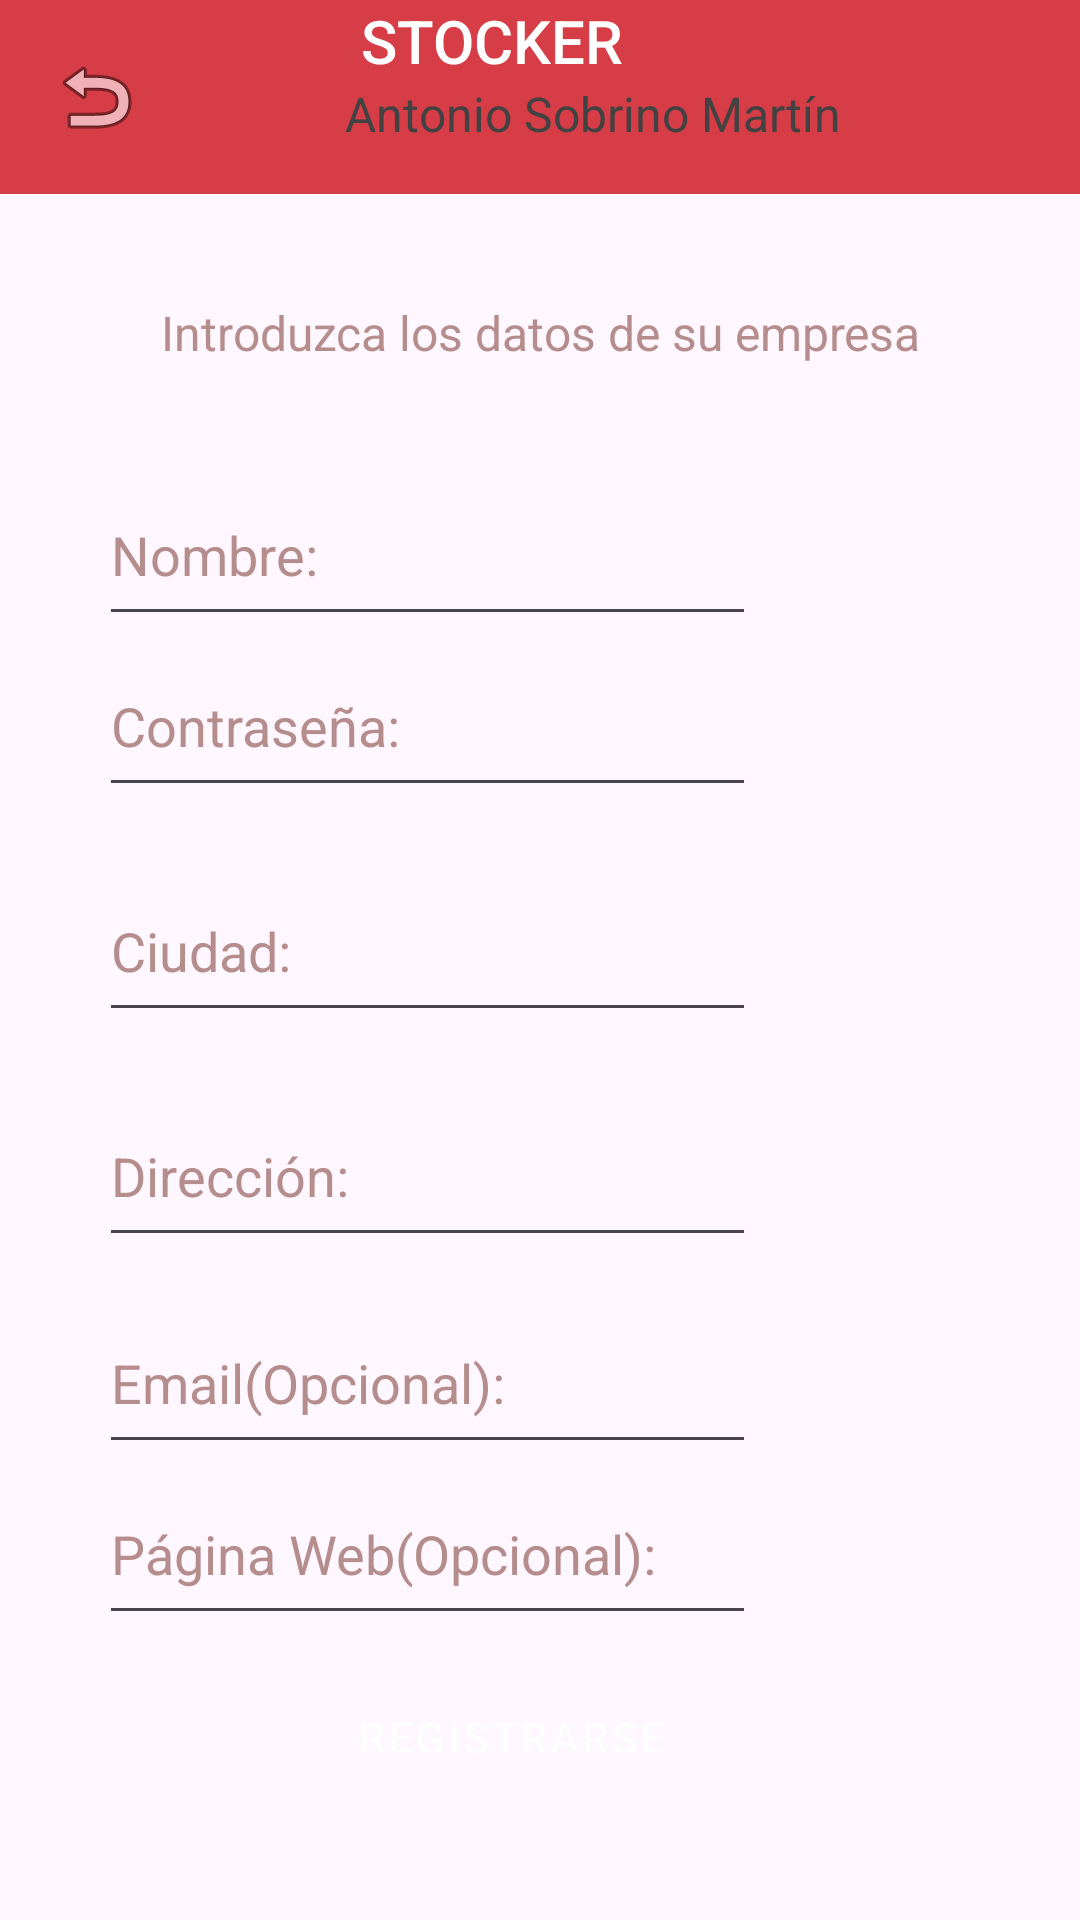

Icon bounding boxes for this 1080px x 1920px phone screenshot, format bbox=[x1, y1, x2, y2]:
revert: bbox=[63, 66, 132, 129]
